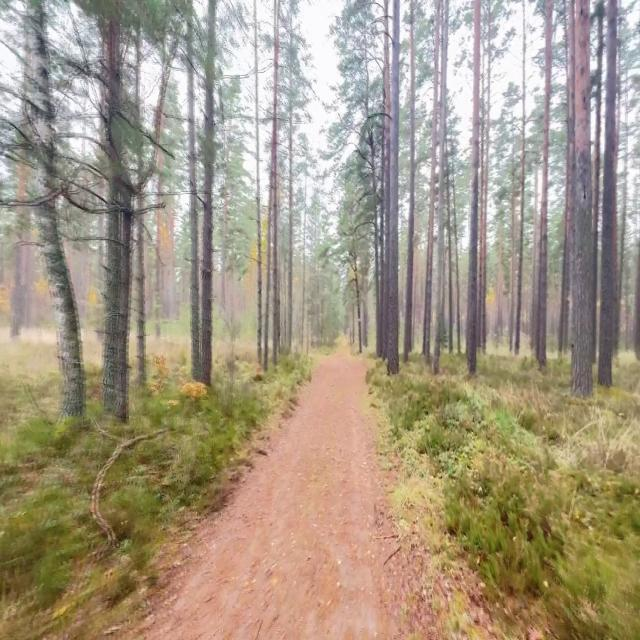trees: (26, 0, 85, 417), (570, 0, 593, 397), (99, 0, 121, 413), (598, 0, 617, 386), (200, 0, 215, 385), (433, 0, 448, 374), (264, 0, 279, 369), (187, 11, 201, 381), (537, 0, 551, 368), (425, 4, 439, 361), (467, 0, 480, 373), (116, 159, 132, 431), (560, 0, 572, 351), (388, 0, 399, 375), (404, 0, 415, 362), (567, 0, 577, 366), (592, 0, 603, 327), (515, 0, 525, 354), (384, 0, 392, 370), (254, 0, 262, 362), (369, 128, 381, 357), (343, 214, 362, 353), (618, 73, 628, 332), (287, 2, 293, 351), (135, 195, 145, 386), (273, 124, 280, 365), (452, 181, 460, 353), (447, 168, 454, 353), (381, 113, 386, 357), (301, 182, 306, 350)
